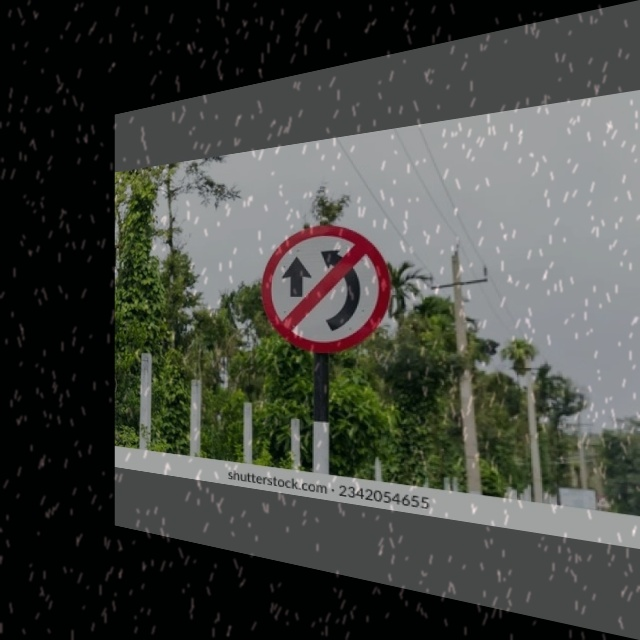Overtaking_Prohibited: (261, 224, 393, 358)
